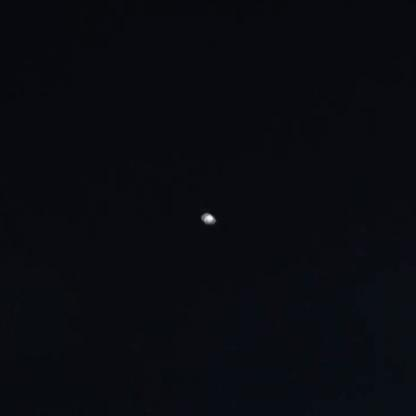ball: (199, 206, 218, 226)
